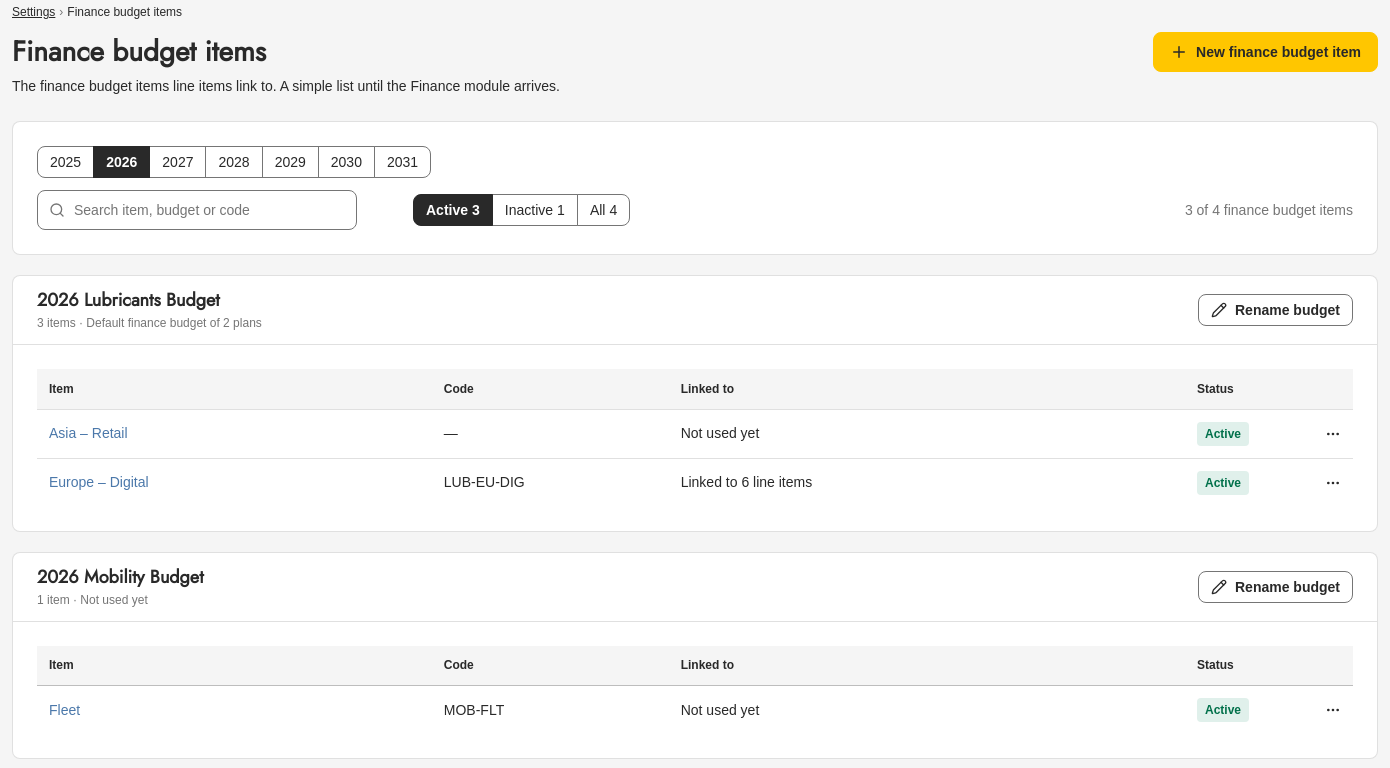
Test: FinanceBudgetItemsPage: the list (FR-014, FR-015) › searches items, budgets and codes
Expected: the element "2026 Lubricants Budget" is shown, [12,275,1378,532]
In the search field named "Search finance budget items": (197, 210) [37,190,357,230], type "mob-flt"
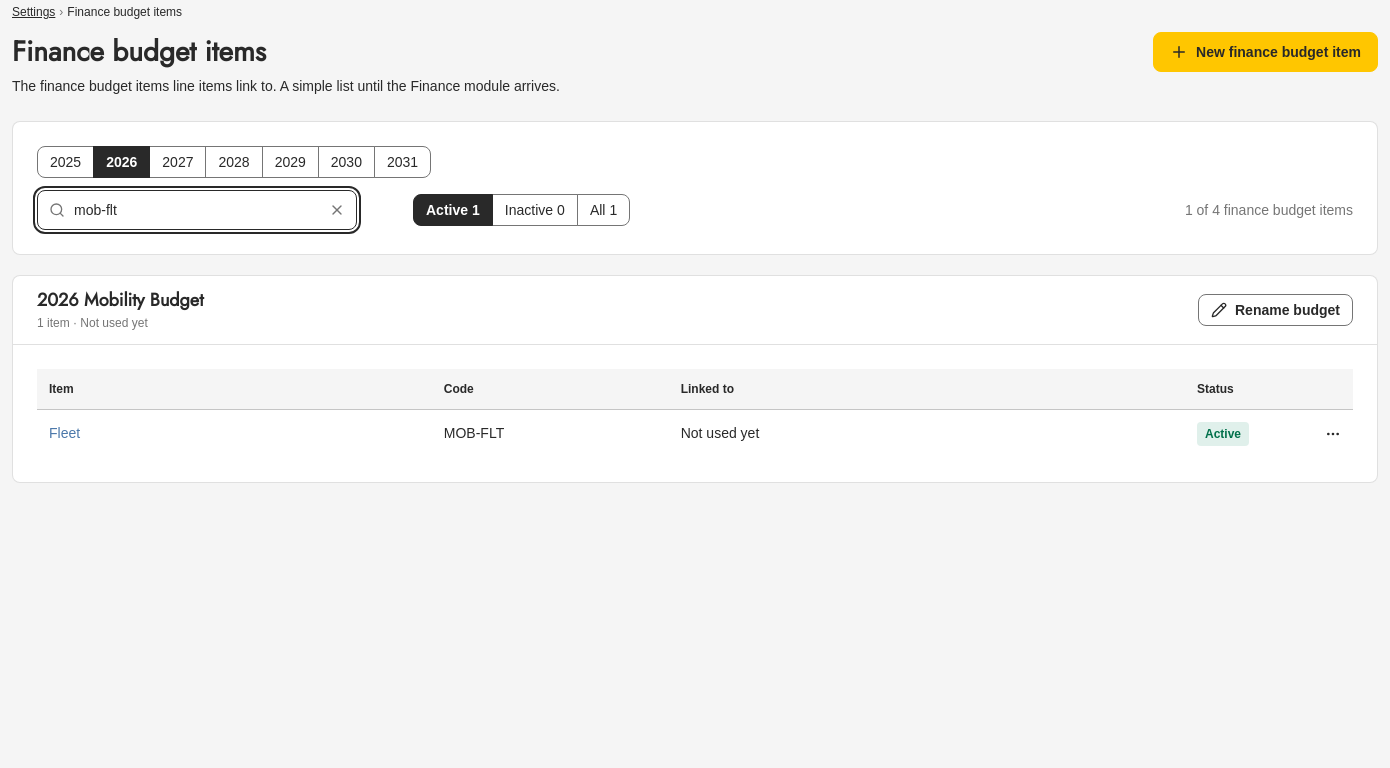
Expected: the button "Fleet" is shown, [49,423,80,444]
Expected: the heading "2026 Lubricants Budget" is gone
Expected: the text "1 of 4 finance budget items" is shown, [1185,200,1353,220]
